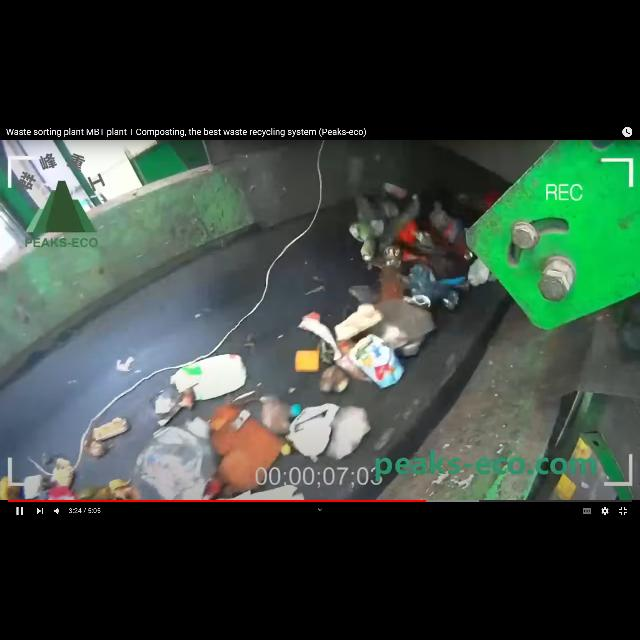trash: (429, 208, 465, 244)
